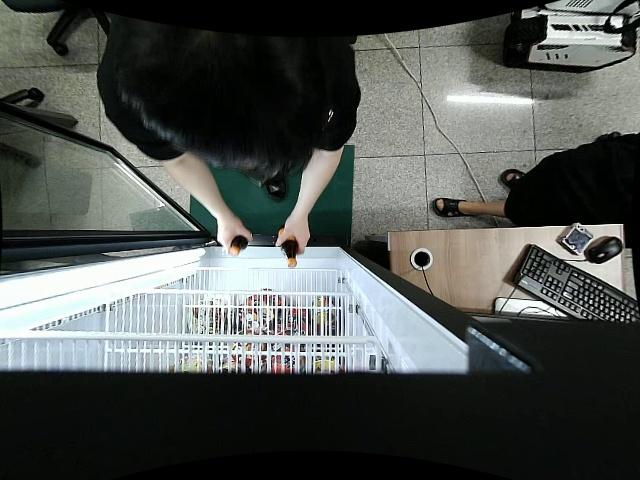00_hand: (216, 215, 253, 255), (275, 215, 311, 256)
17_vita500: (274, 227, 300, 269), (227, 238, 251, 255)
